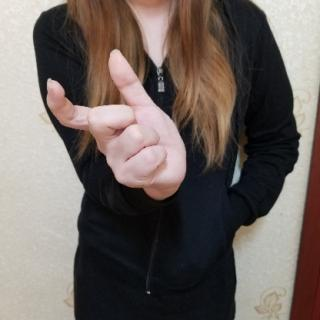NOON: (42, 45, 186, 194)
